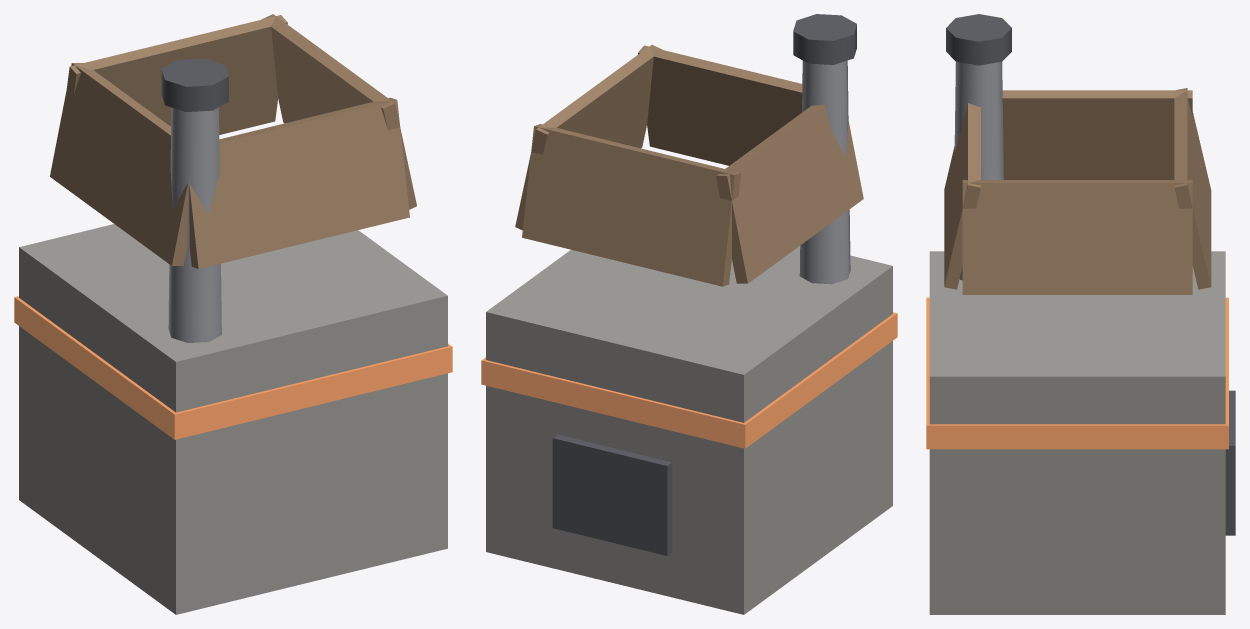
File: build_generator.glb
The picture shows the model from 3 angles, left to right: view 1: azimuth 30°, elevation 25°; view 2: azimuth 150°, elevation 25°; view 3: azimuth 270°, elevation 25°; orthographic projection. The views are drawn at different scales.
Visible parts, largest first — view 1: Baked; view 2: Baked; view 3: Baked.
Part boxes in pixels (x1,y1,x2,y2): Baked: (14, 14, 452, 614); Baked: (481, 14, 897, 614); Baked: (926, 14, 1235, 614).
Bounding box in the file's own units: 0.92 × 1.62 × 0.94.
